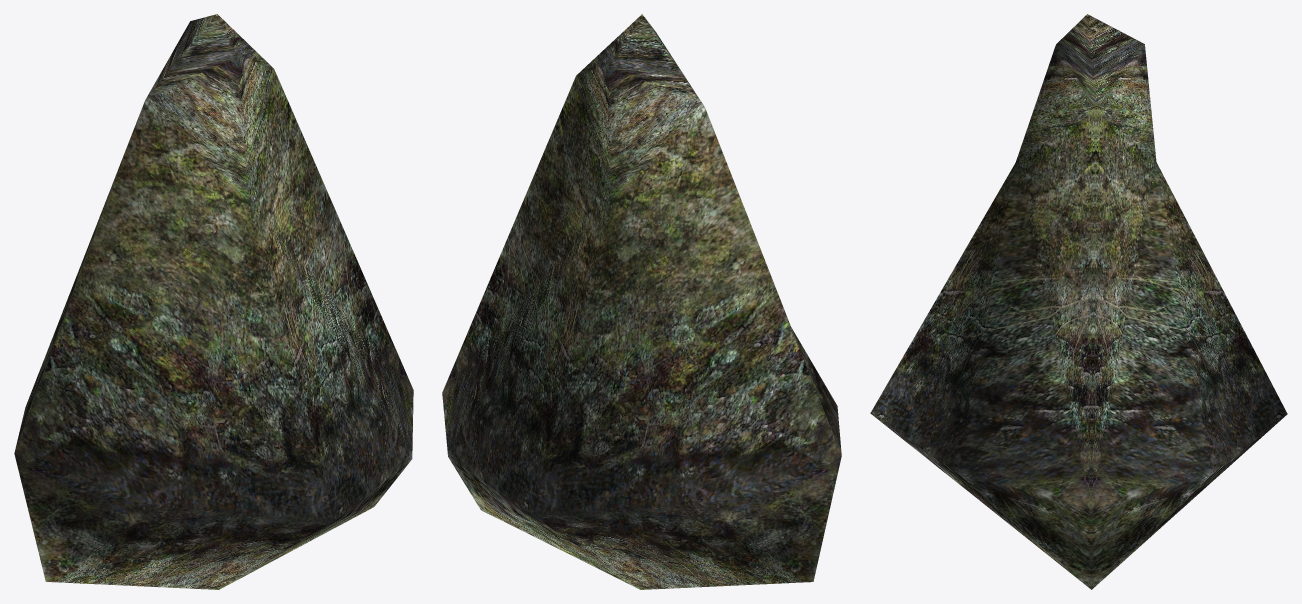
The model's file is thm_all_cave_stalagmite_damprock_a3_l2.fbx.
3 renders of one model, left to right at view 1: azimuth 30°, elevation 25°; view 2: azimuth 150°, elevation 25°; view 3: azimuth 270°, elevation 25°, orthographic. The views are drawn at different scales.
Parts seen in each view (by area): view 1: mesh_node; view 2: mesh_node; view 3: mesh_node.
Boxes of the visible parts, box(x1,y1,x2,y2) form: mesh_node: box(14, 14, 413, 589); mesh_node: box(442, 14, 841, 589); mesh_node: box(870, 14, 1287, 589).
Bounding box in the file's own units: 1.23 × 1.7 × 1.18.
